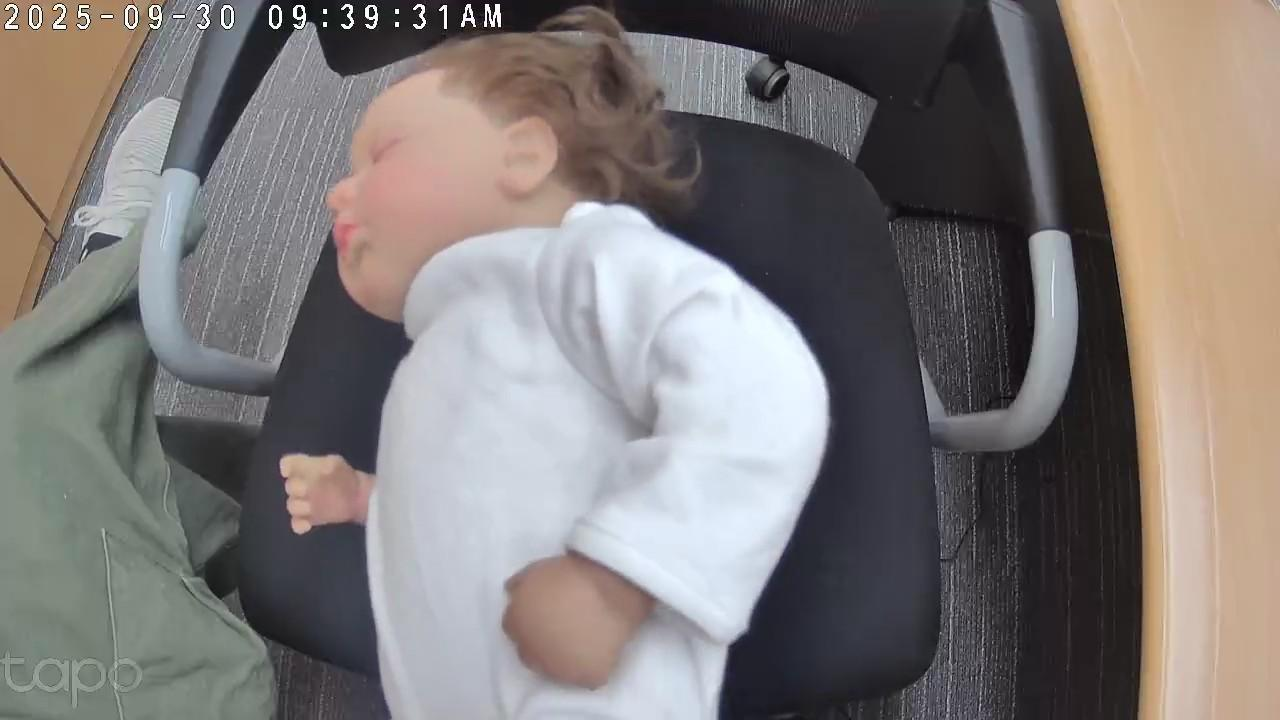hand: (503, 553, 630, 690), (279, 455, 359, 535)
